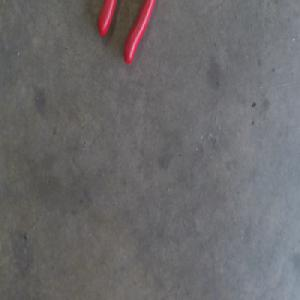Pliers: (98, 0, 157, 66)
